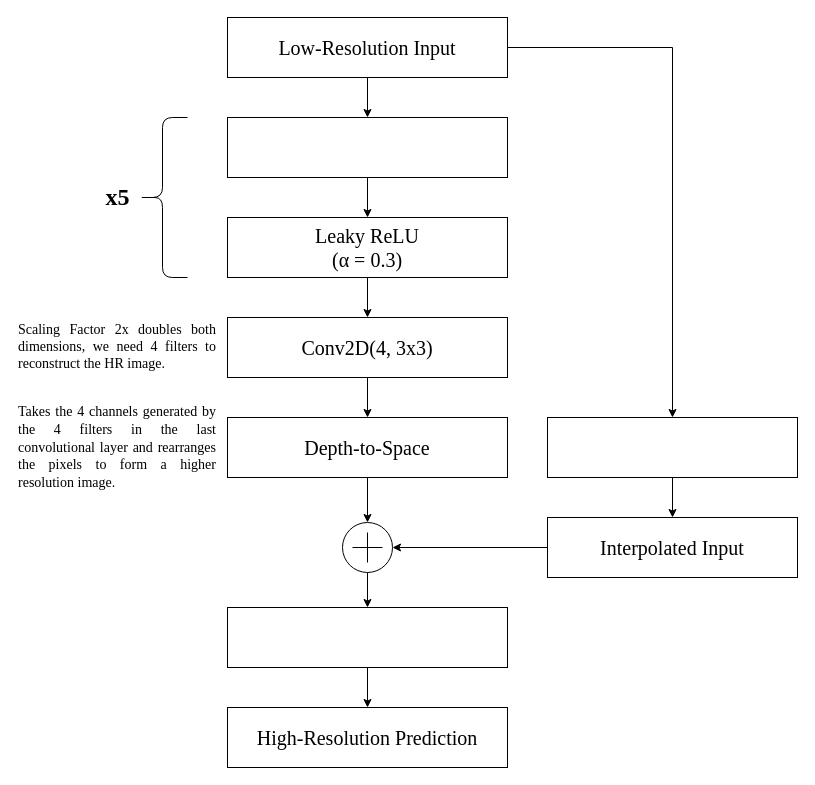
Some shapes in this 815 by 785 pixel diagram are drawn without their labels. The box of each missing label's shape, as (x1, y1, x2, y2) in pixels:
Conv2D(8, 3x3): (226, 116, 508, 178)
Lanczos Resampling: (546, 416, 798, 478)
ReLU (max value = 1): (226, 606, 508, 668)
